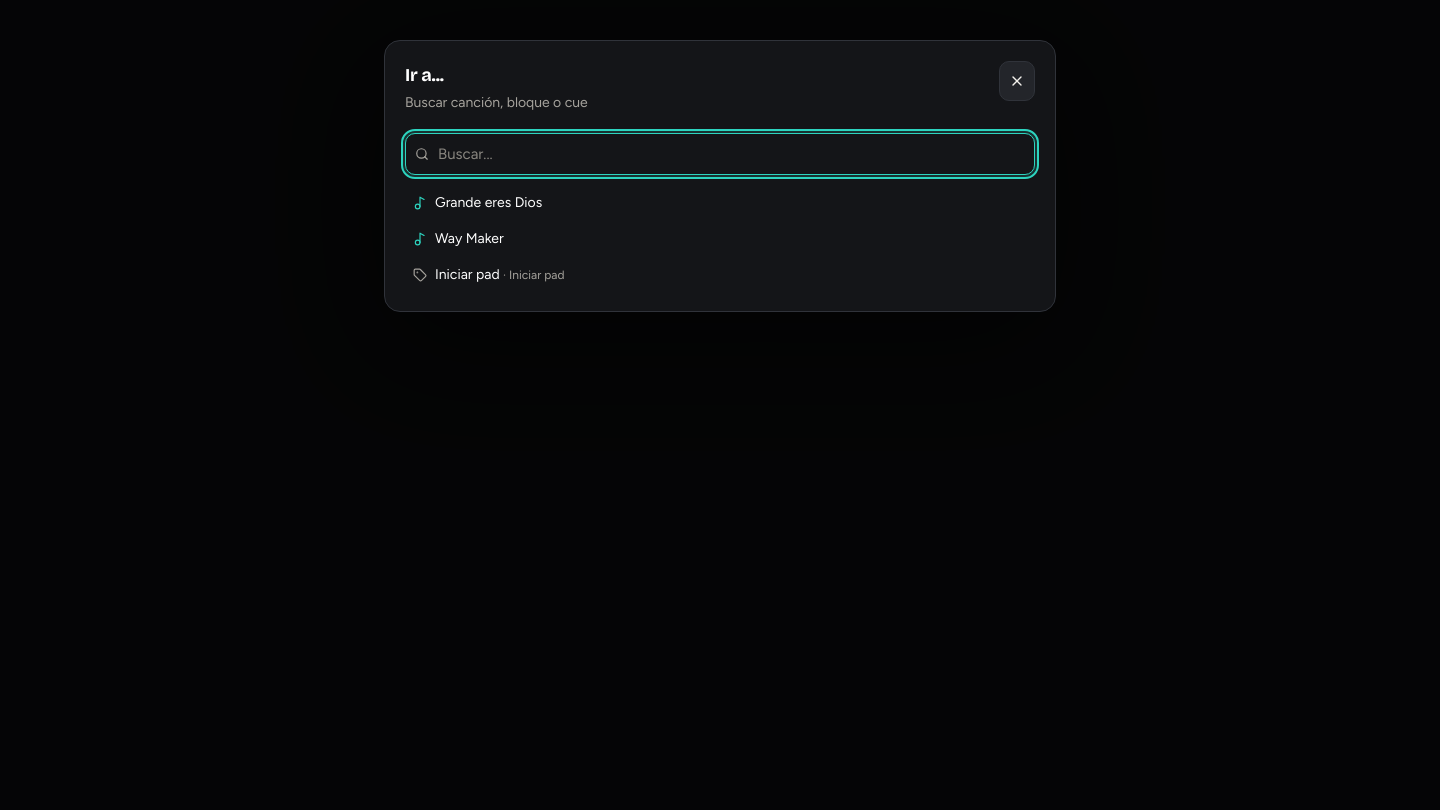
Test: QuickJumpDialog › filtra por substring (insensible a mayusculas)
In the field with placeholder "Buscar...": (720, 154) [405,133,1035,175], type "way"
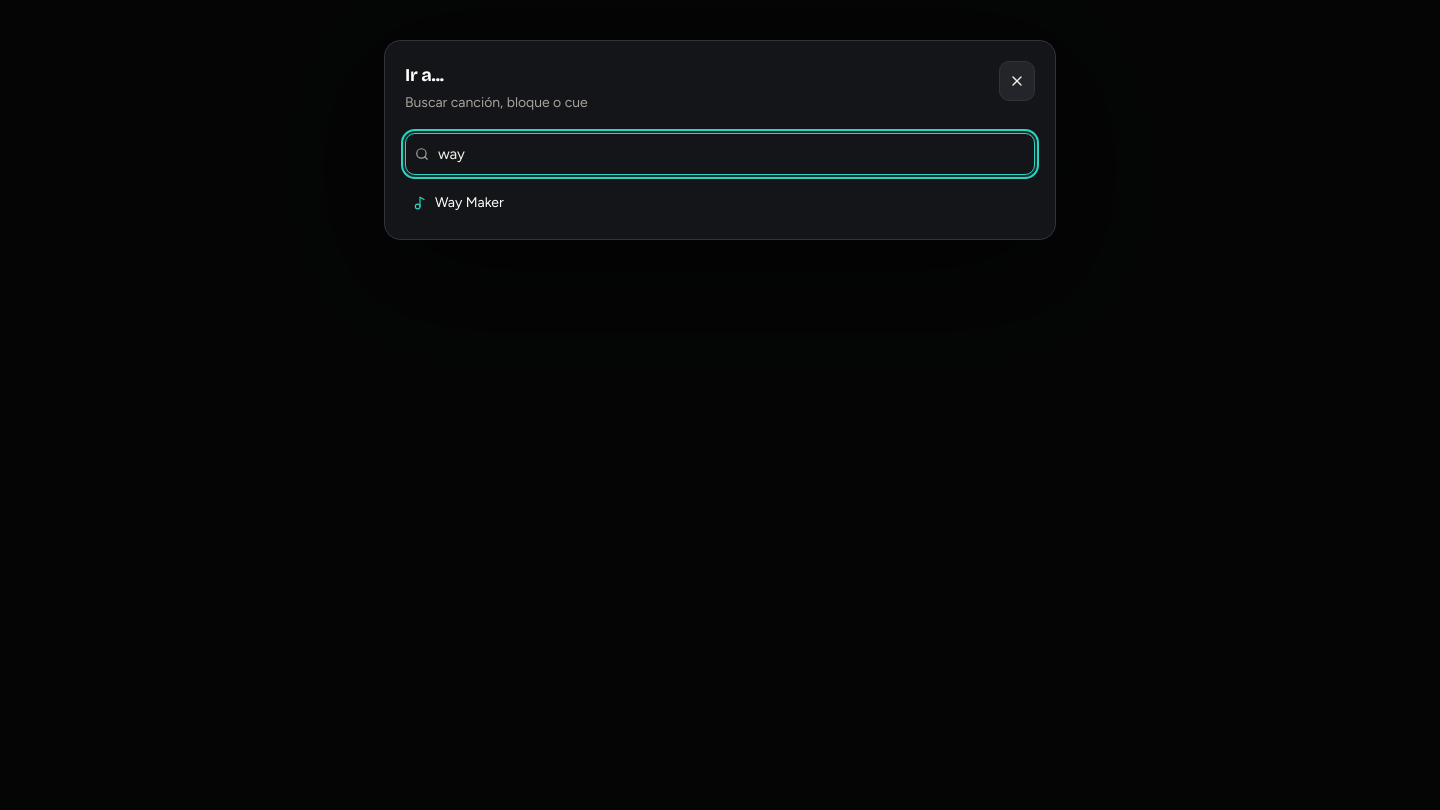
expect the text "Way Maker" is shown: met, box [435,193,504,213]
expect the button "Grande eres Dios" is gone: met
